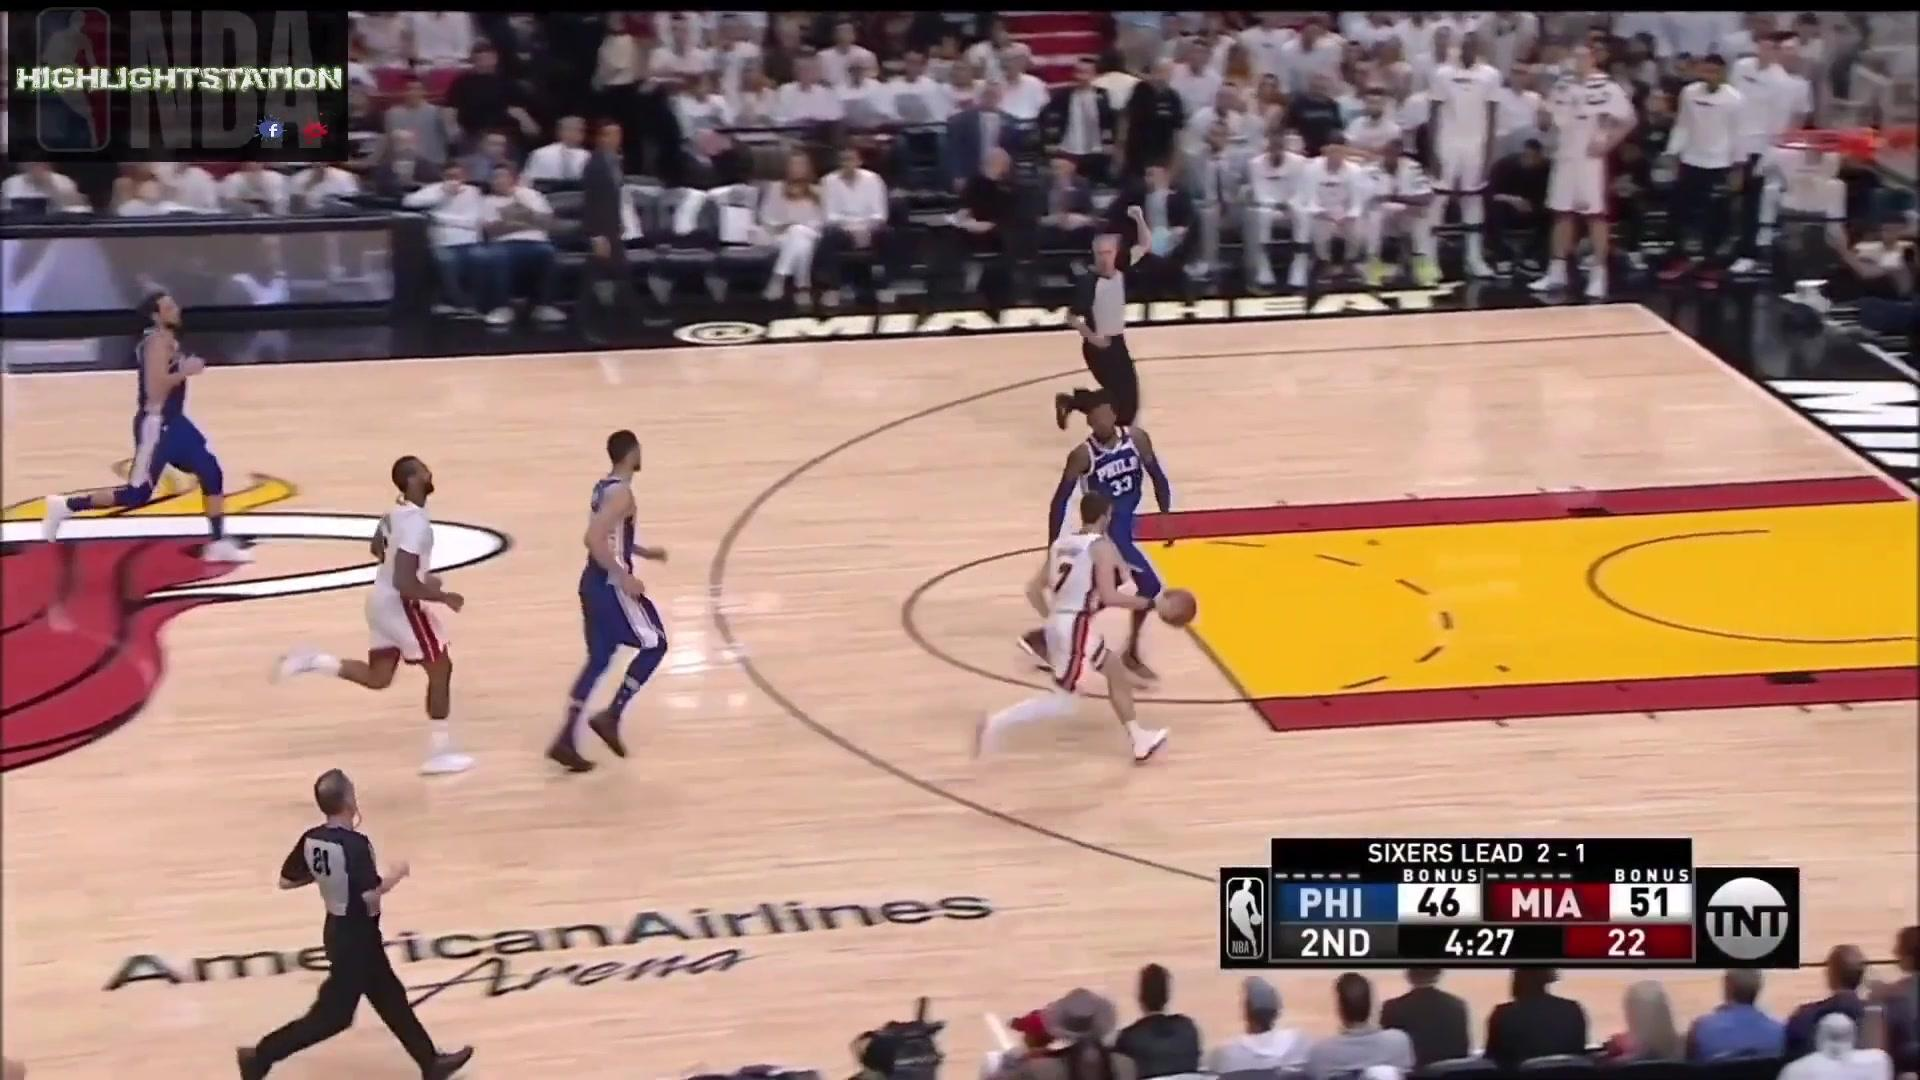no_foul: (972, 386, 1215, 787)
